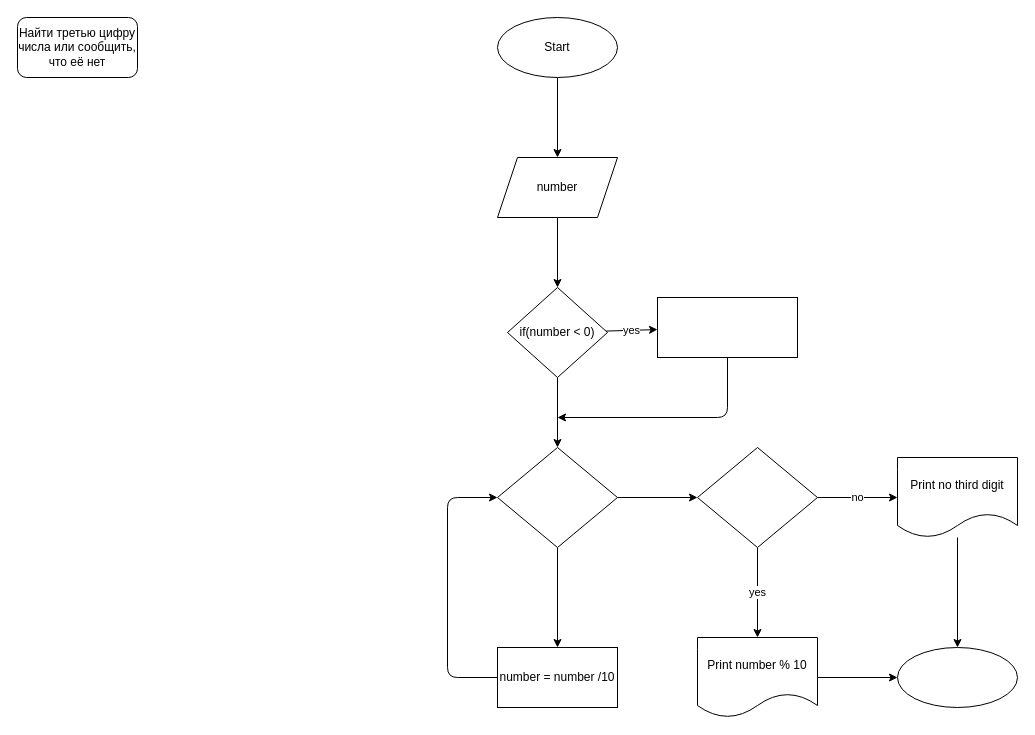
Some shapes in this 1035 by 735 pixel diagram are drawn without their labels. The shapes that lost their labels are listed below. From the top down, each one's centre as x and y in pixels, then its label:
At point 727,327: "number = number * (-1)".
At point 557,497: "while(number > 1000)".
At point 757,497: "if(number > 99)".
At point 957,677: "End".
